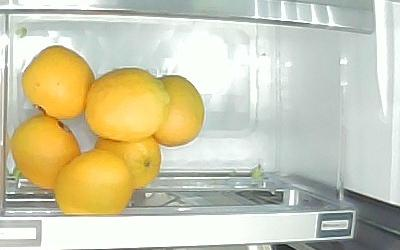orange: (85, 68, 170, 140), (21, 45, 96, 119), (8, 116, 82, 191), (54, 149, 132, 214), (152, 75, 205, 147), (93, 135, 162, 189)
